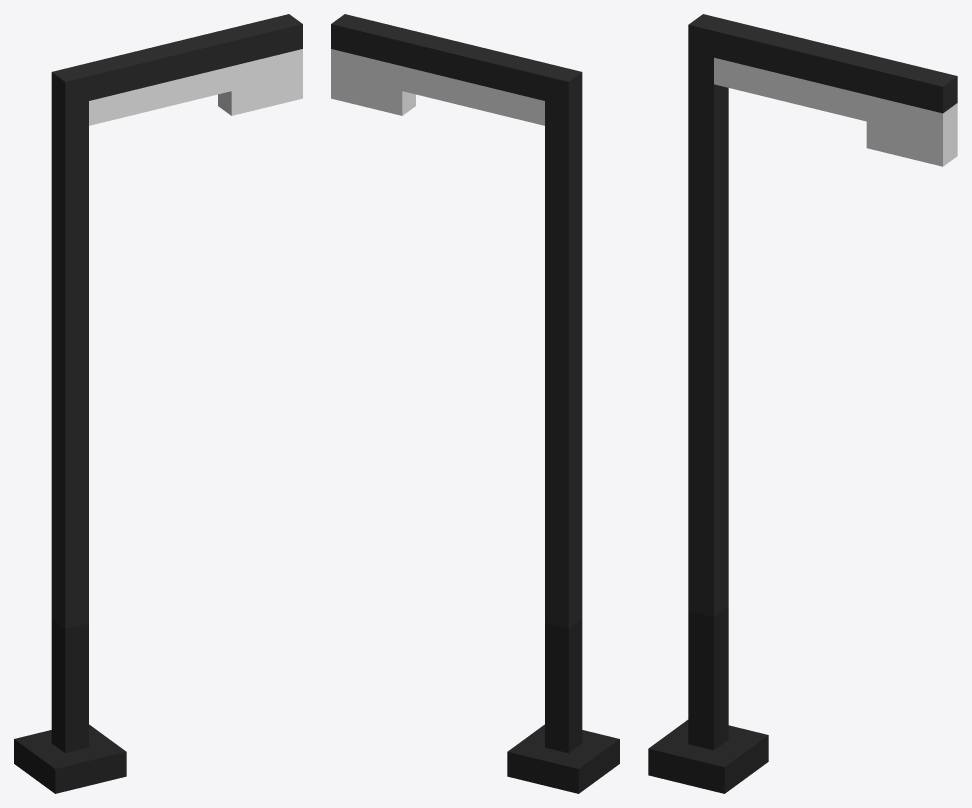
Rendered from ConstructionMaterials-58.obj.
The picture shows the model from 3 angles, left to right: view 1: azimuth 30°, elevation 25°; view 2: azimuth 150°, elevation 25°; view 3: azimuth 330°, elevation 25°; orthographic projection. The views are drawn at different scales.
Size of the model in its own units: 1.1 by 2.8 by 0.3.
1 material, 1 textured.
